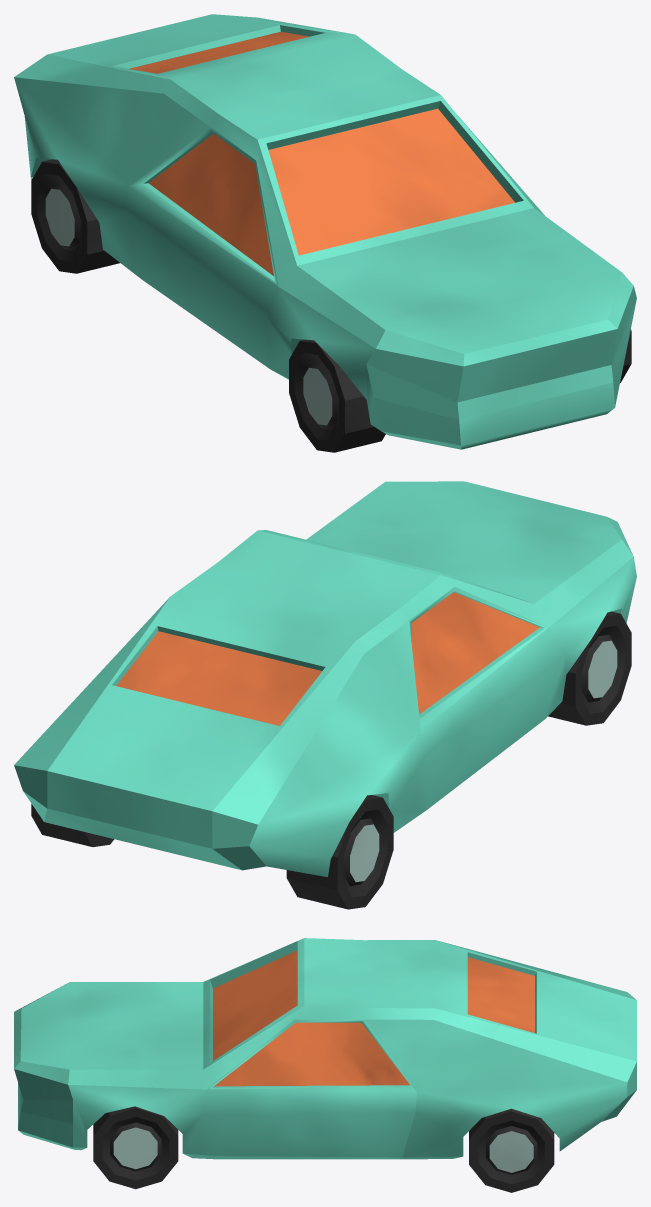
The model's file is SM_BGCarObstacle_01.fbx.
3 renders of one model, top to bottom at view 1: azimuth 30°, elevation 25°; view 2: azimuth 150°, elevation 25°; view 3: azimuth 270°, elevation 25°, orthographic. The views are drawn at different scales.
Parts seen in each view (by area): view 1: CarObstacle_01; view 2: CarObstacle_01; view 3: CarObstacle_01.
Part boxes in pixels (x1=…): CarObstacle_01: x1=14, y1=14, x2=636, y2=452; CarObstacle_01: x1=14, y1=481, x2=636, y2=909; CarObstacle_01: x1=14, y1=938, x2=636, y2=1192.
Bounding box in the file's own units: 2.1 × 1.39 × 4.76.
